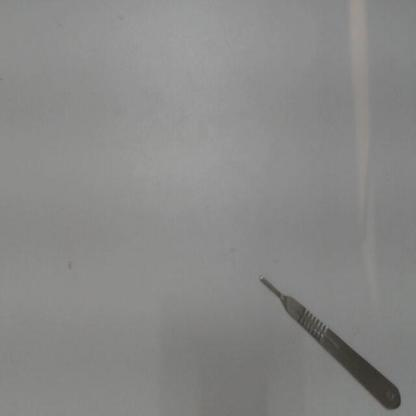No.3 BP Handle: (253, 263, 404, 412)
